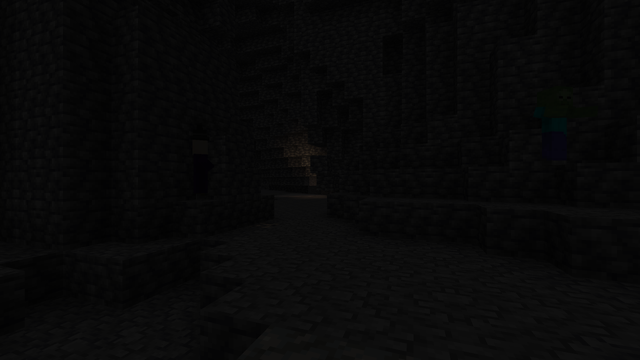sorcieres: (192, 136, 206, 199)
zombies: (535, 86, 575, 165)
